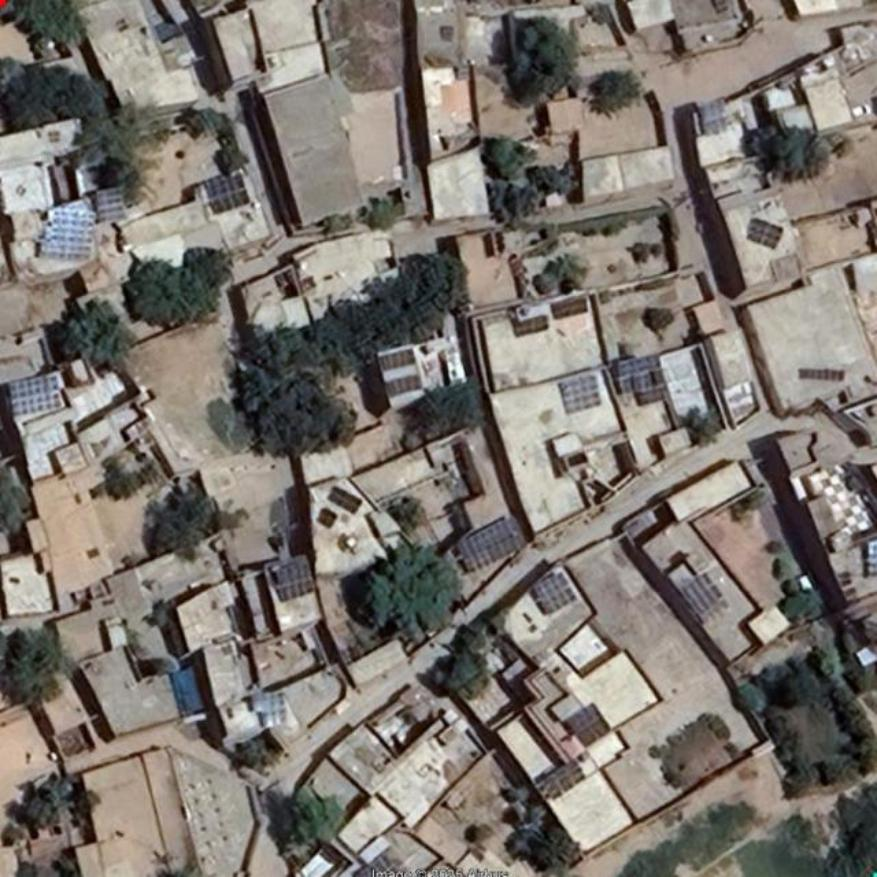Solarpanel: (458, 521, 521, 572), (47, 211, 95, 264), (8, 377, 61, 420), (567, 702, 610, 748), (535, 761, 586, 798), (620, 354, 662, 395), (277, 560, 316, 602), (204, 175, 246, 212), (685, 574, 719, 618), (535, 575, 575, 611), (562, 377, 599, 414), (747, 218, 786, 248), (98, 189, 126, 222), (514, 313, 548, 333), (551, 299, 586, 316)
